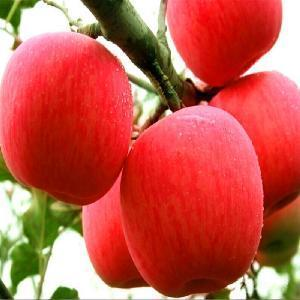apple: (120, 105, 262, 299), (1, 31, 132, 210), (202, 71, 300, 212), (168, 1, 282, 84)
